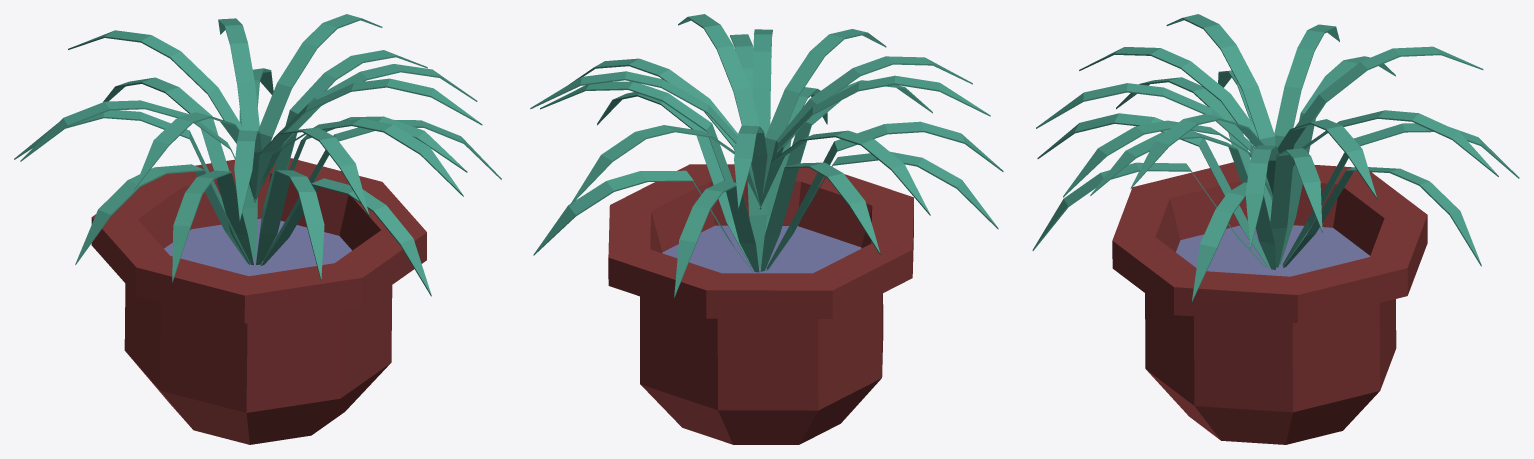
The model's file is Yogaroom_flower7.fbx.
3 renders of one model, left to right at view 1: azimuth 30°, elevation 25°; view 2: azimuth 150°, elevation 25°; view 3: azimuth 270°, elevation 25°, orthographic.
Visible parts, largest first — view 1: Yogaroom_flower7; view 2: Yogaroom_flower7; view 3: Yogaroom_flower7.
Boxes of the visible parts, left/top/right/bottom form: Yogaroom_flower7: left=14, top=14, right=501, bottom=444; Yogaroom_flower7: left=530, top=14, right=1003, bottom=444; Yogaroom_flower7: left=1032, top=14, right=1519, bottom=444.
Bounding box in the file's own units: 56.43 × 43.34 × 57.08.
